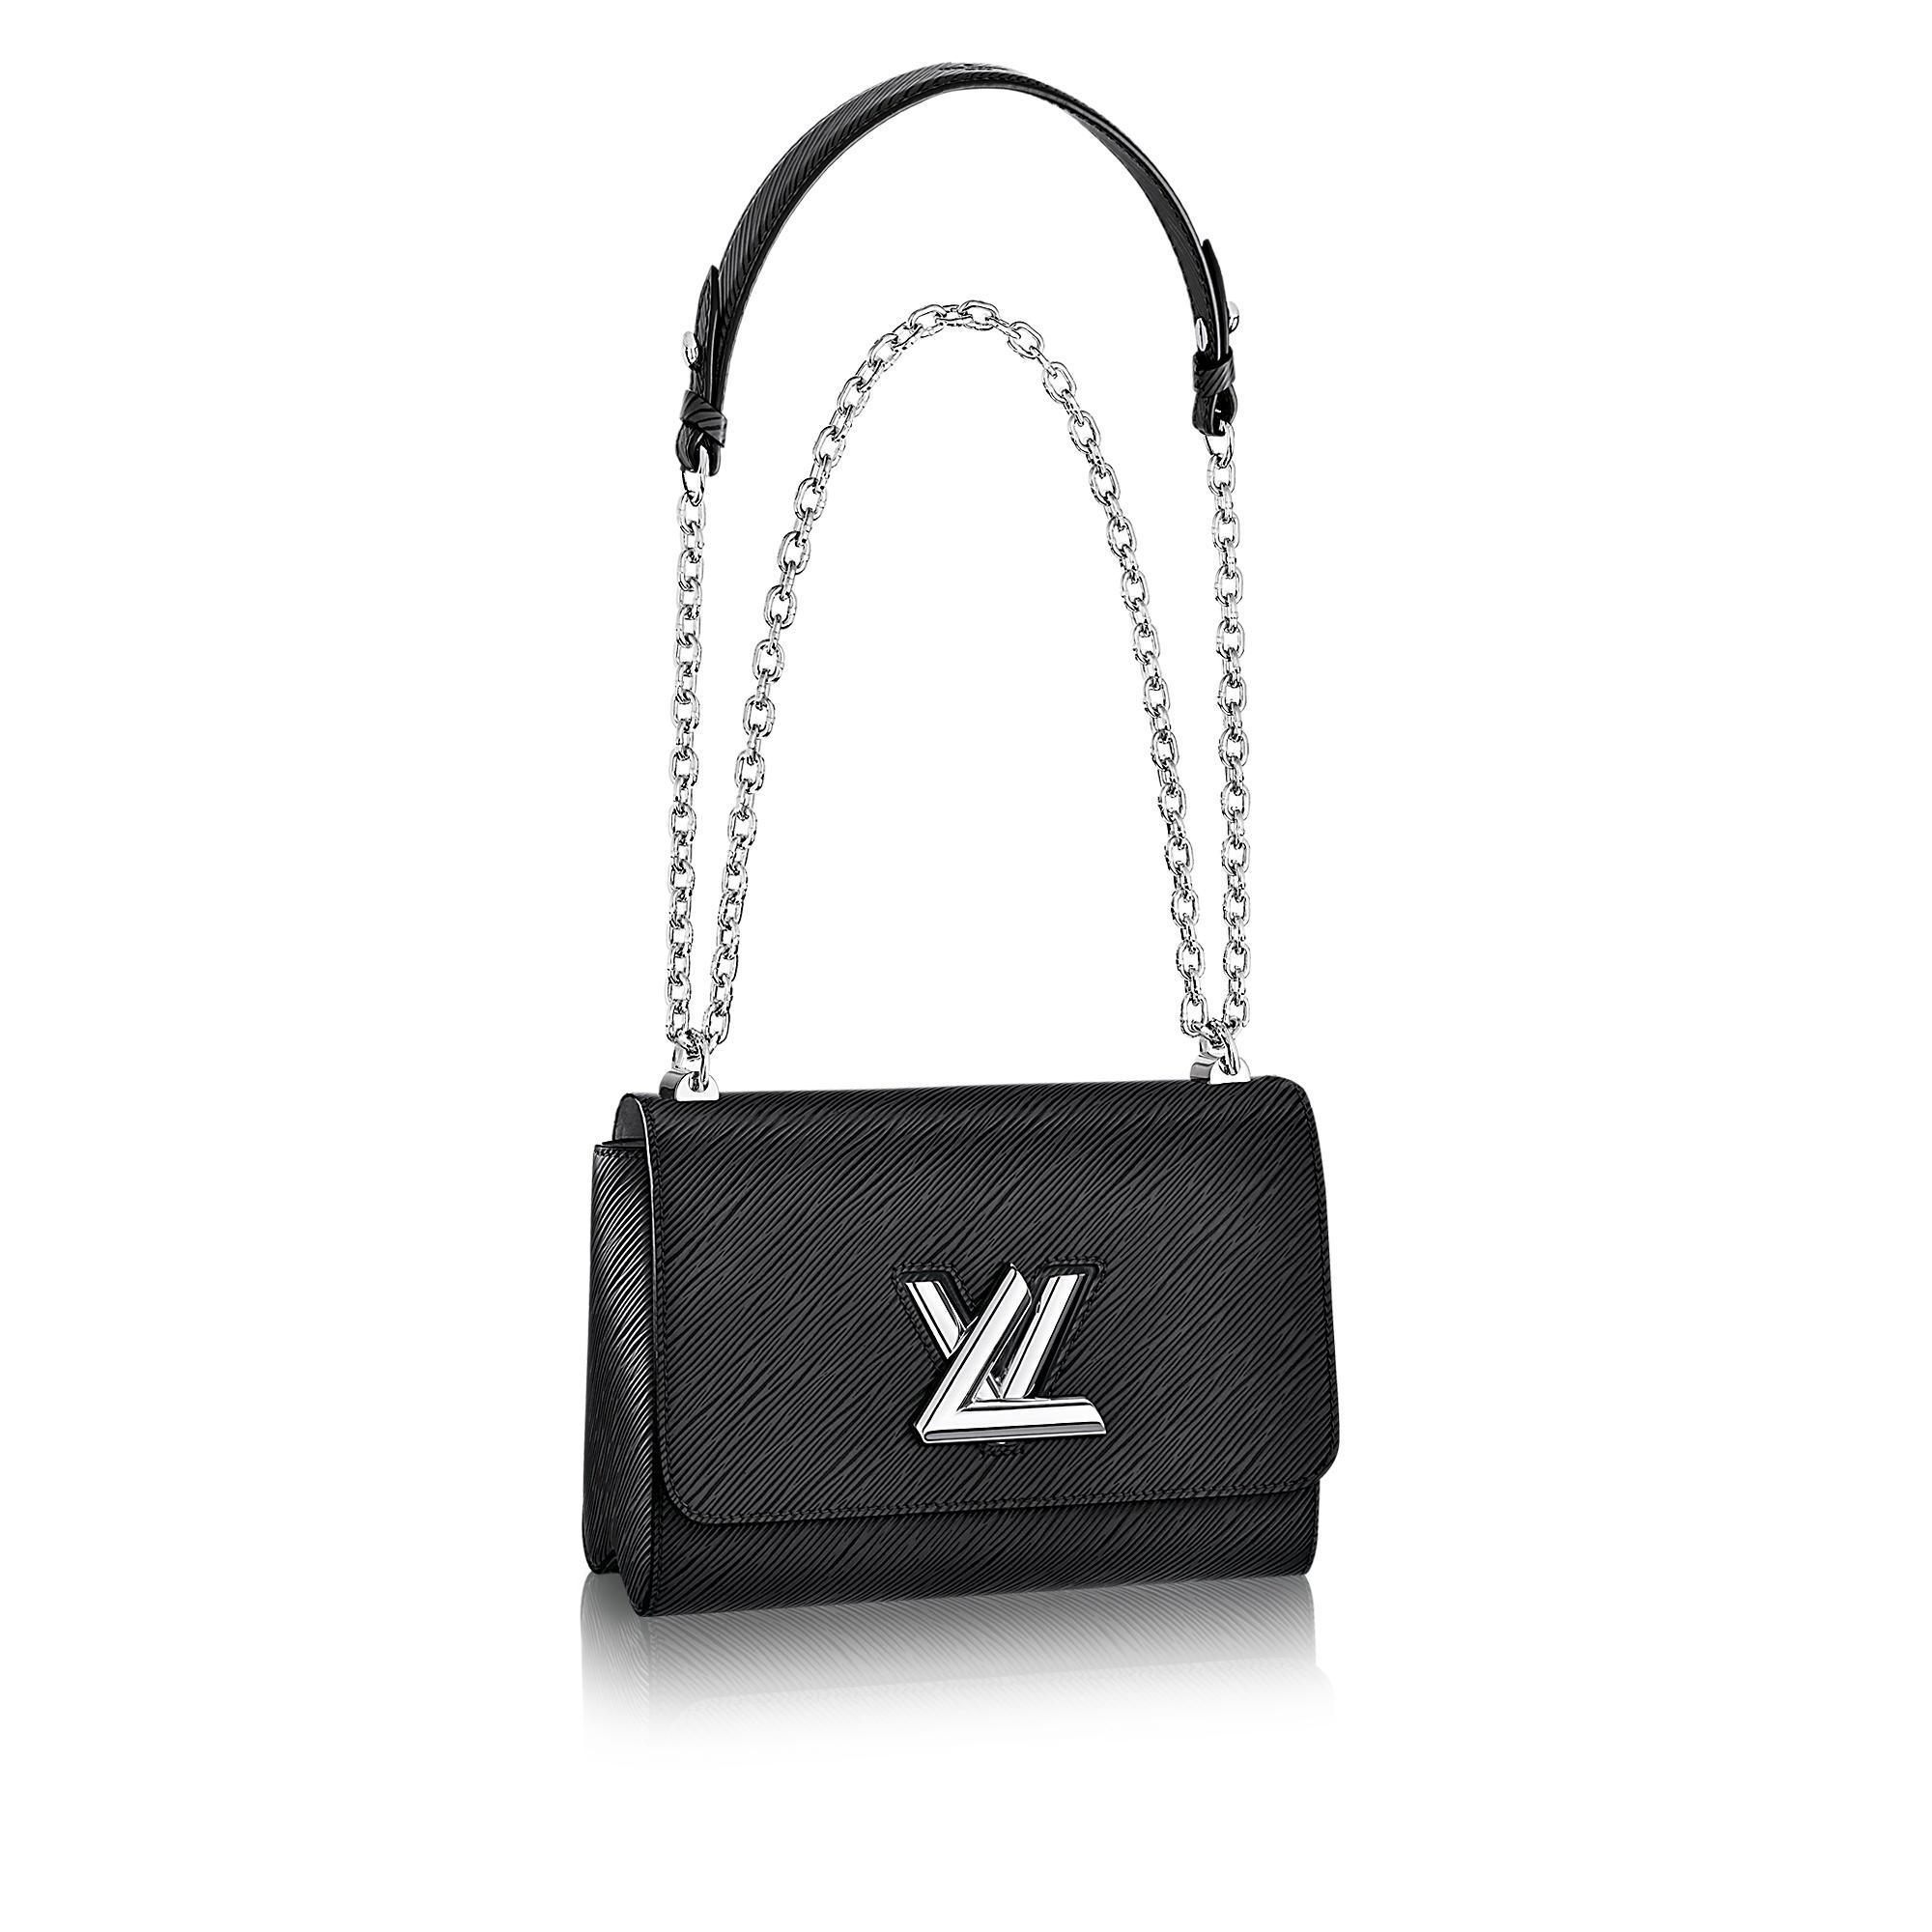LOUIS-VUITTON: (885, 1258, 1106, 1444)
